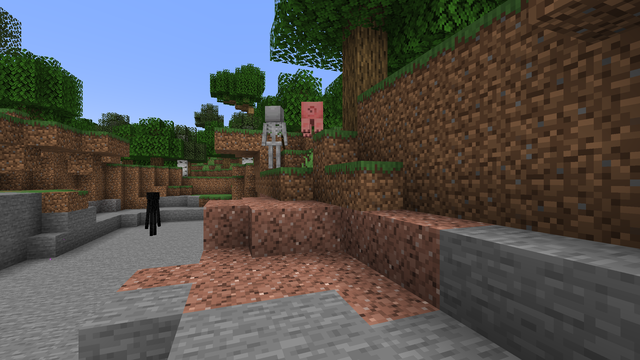cochons: (295, 99, 332, 136)
endermens: (146, 190, 159, 235)
squelettes: (264, 104, 285, 167)
